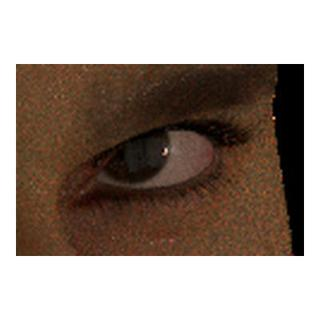pupil: (117, 133, 143, 159)
